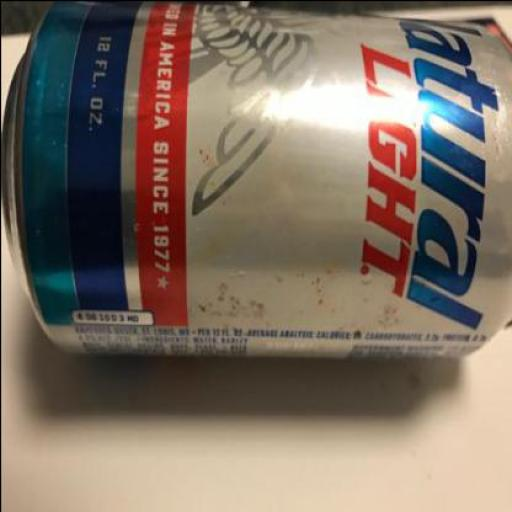metal: (1, 1, 511, 356)
